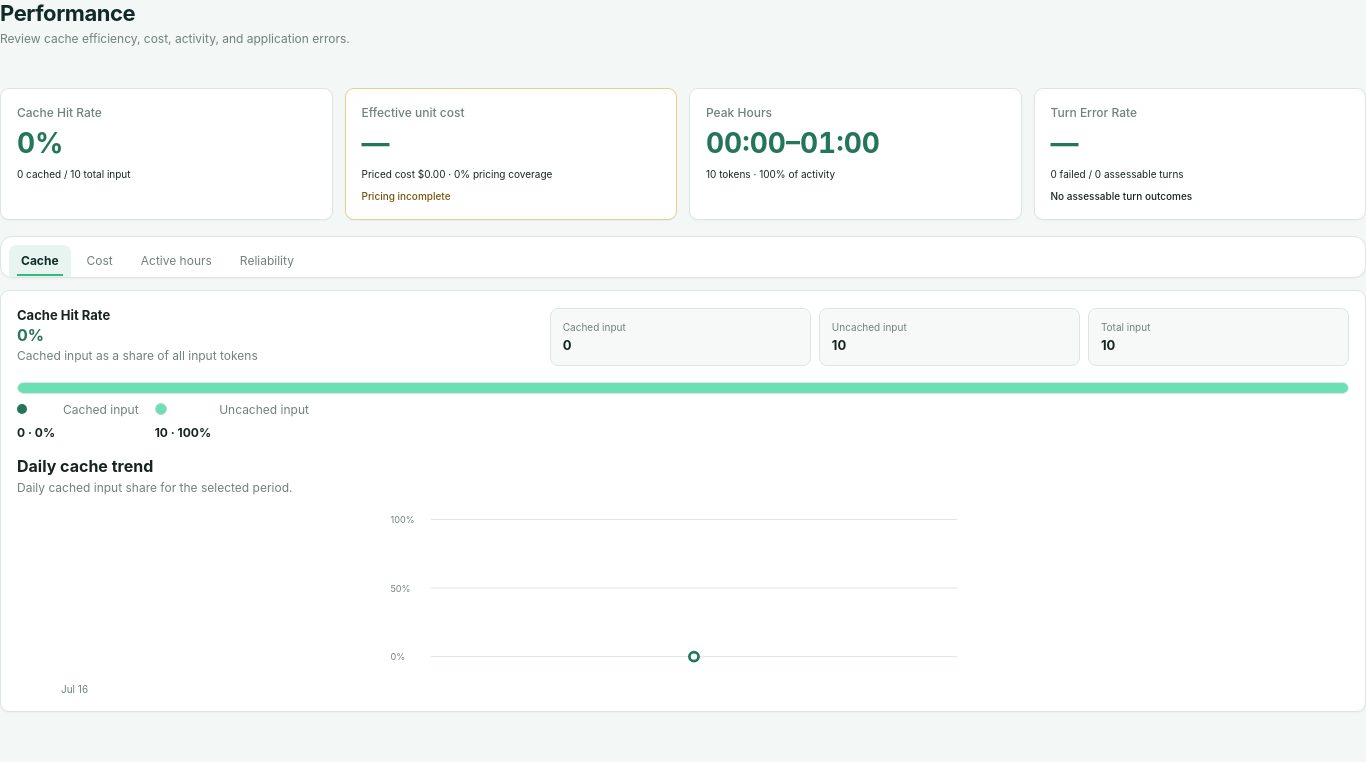
Test: PerformanceView › renders detailed cost efficiency instead of a total-token mini line
This screenshot has width=1366, height=762.
Click the tab "Cost" at [100, 261], box [74, 245, 125, 277]
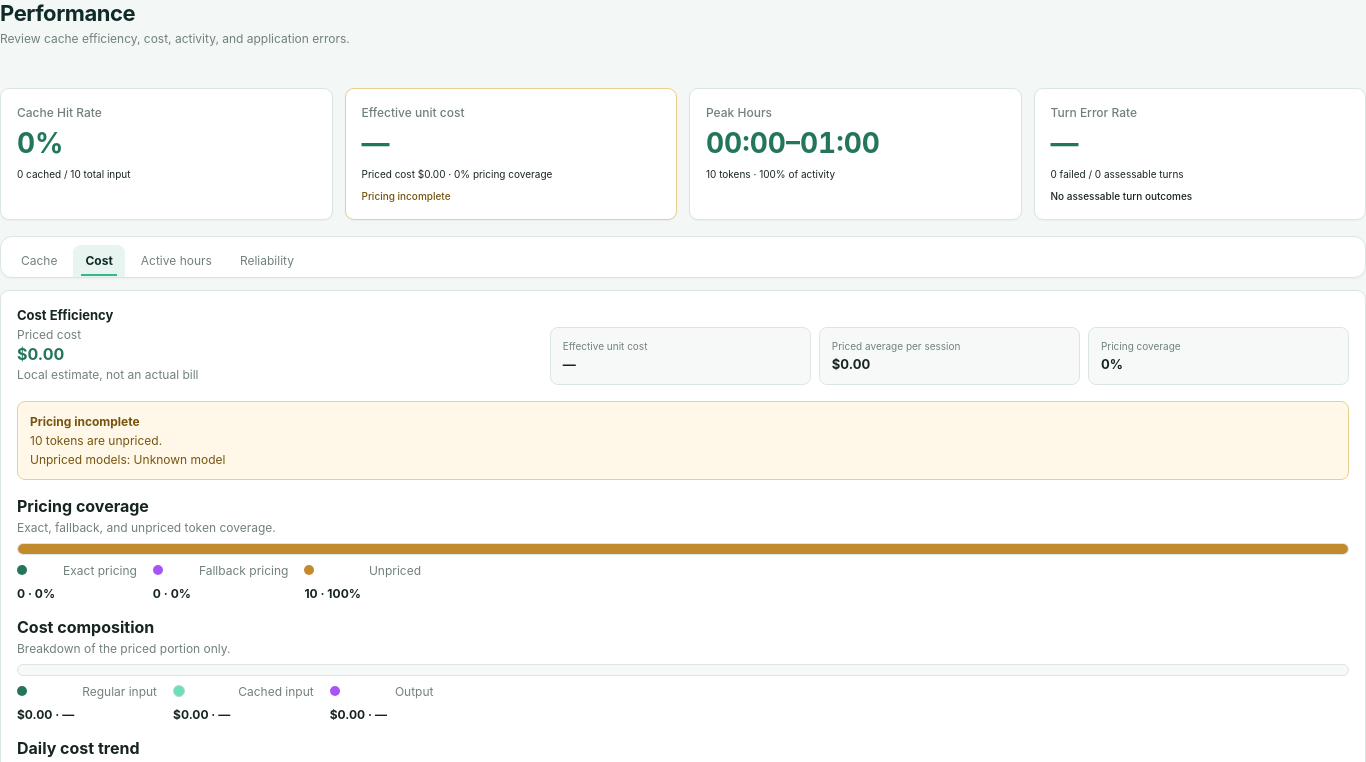
expect the text "Daily cost trend" is shown: met, box [17, 738, 140, 758]
